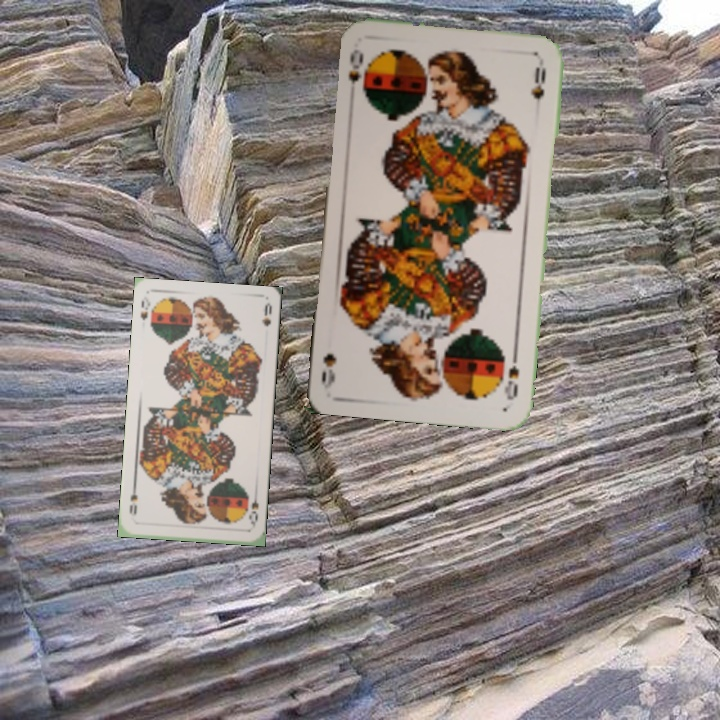SO: (344, 45, 370, 100), (500, 346, 522, 403), (245, 489, 261, 529), (136, 293, 153, 323)
